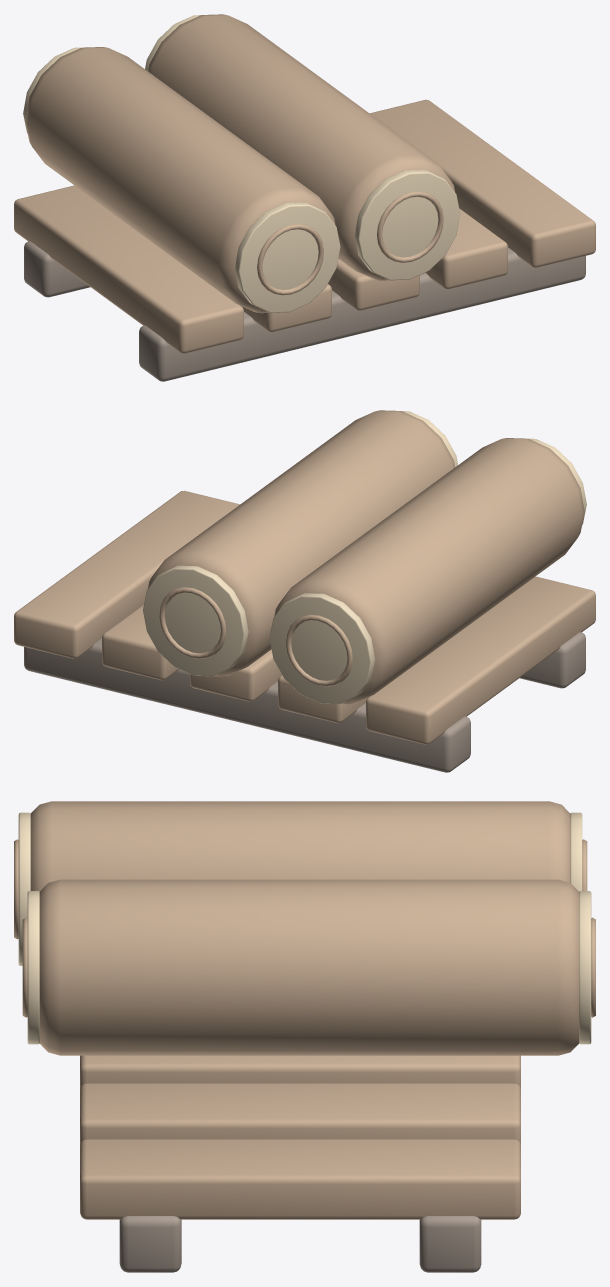
File: wood-partial.glb
3 renders of one model, top to bottom at view 1: azimuth 30°, elevation 25°; view 2: azimuth 150°, elevation 25°; view 3: azimuth 270°, elevation 25°, orthographic. The views are drawn at different scales.
Parts seen in each view (by area): view 1: Soft bark log.006, Soft bark log.007, Rounded pallet slat.005, Rounded pallet slat.009, Low pallet runner.002, Cut end.012, Cut end.014, Rounded pallet slat.008, Rounded pallet slat.007, Low pallet runner.003, Rounded pallet slat.006, Growth ring.012 (+1 smaller); view 2: Soft bark log.006, Soft bark log.007, Rounded pallet slat.005, Rounded pallet slat.009, Low pallet runner.003, Cut end.013, Cut end.015, Rounded pallet slat.008, Rounded pallet slat.007, Low pallet runner.002, Rounded pallet slat.006, Growth ring.013 (+1 smaller); view 3: Soft bark log.007, Soft bark log.006, Rounded pallet slat.009, Rounded pallet slat.008, Rounded pallet slat.007, Low pallet runner.002, Low pallet runner.003, Cut end.014, Cut end.015, Cut end.012, Cut end.013.
Part boxes in pixels (<box>): Soft bark log.006: <box>25,47,335,313</box>; Soft bark log.007: <box>148,14,455,280</box>; Rounded pallet slat.005: <box>14,185,243,353</box>; Rounded pallet slat.009: <box>370,99,595,267</box>; Low pallet runner.002: <box>139,247,585,381</box>; Cut end.012: <box>234,202,340,312</box>; Cut end.014: <box>354,169,460,280</box>; Rounded pallet slat.008: <box>425,208,507,289</box>; Rounded pallet slat.007: <box>328,258,419,310</box>; Low pallet runner.003: <box>24,241,90,297</box>; Rounded pallet slat.006: <box>240,284,331,332</box>; Growth ring.012: <box>257,223,323,295</box>; Soft bark log.006: <box>274,438,584,704</box>; Soft bark log.007: <box>148,410,454,676</box>; Rounded pallet slat.005: <box>366,576,595,744</box>; Rounded pallet slat.009: <box>14,490,239,658</box>; Low pallet runner.003: <box>24,638,470,772</box>; Cut end.013: <box>269,593,375,703</box>; Cut end.015: <box>143,565,248,676</box>; Rounded pallet slat.008: <box>102,604,178,680</box>; Rounded pallet slat.007: <box>190,649,281,701</box>; Low pallet runner.002: <box>519,632,585,688</box>; Rounded pallet slat.006: <box>278,675,368,723</box>; Growth ring.013: <box>286,614,352,686</box>; Soft bark log.007: <box>39,879,579,1055</box>; Soft bark log.006: <box>30,801,570,891</box>; Rounded pallet slat.009: <box>80,1139,520,1219</box>; Rounded pallet slat.008: <box>80,1083,520,1145</box>; Rounded pallet slat.007: <box>80,1055,520,1089</box>; Low pallet runner.002: <box>119,1216,181,1272</box>; Low pallet runner.003: <box>419,1216,481,1272</box>; Cut end.014: <box>27,891,39,1044</box>; Cut end.015: <box>579,891,591,1044</box>; Cut end.012: <box>18,812,30,965</box>; Cut end.013: <box>570,812,582,891</box>.
Bounding box in the file's own units: 1.46 × 0.63 × 1.32.
